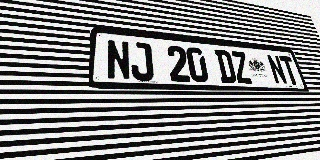0: (185, 47, 209, 83)
2: (166, 45, 190, 82)
D: (214, 49, 237, 83)
J: (130, 41, 154, 81)
N: (107, 39, 131, 80), (266, 54, 288, 85)
T: (279, 55, 301, 85)
Z: (230, 51, 253, 84)
